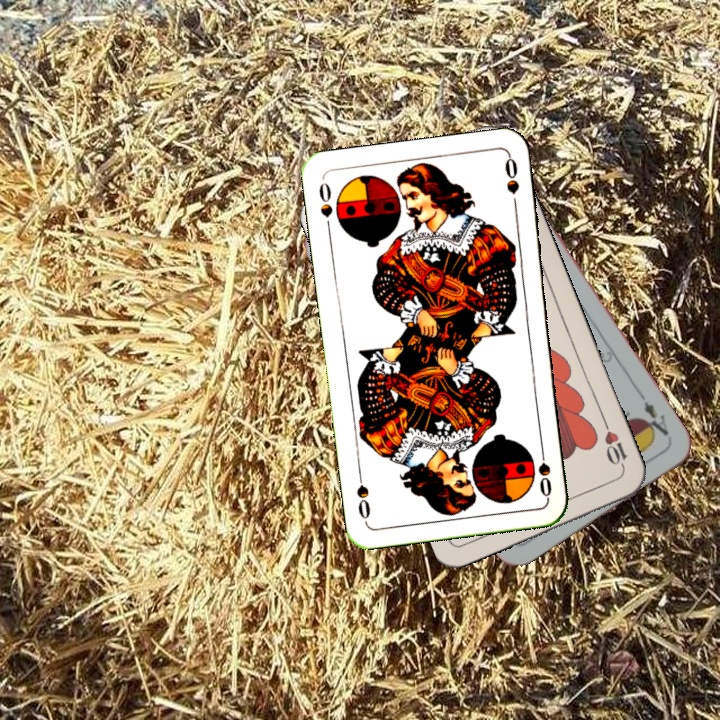EA: (636, 390, 672, 441)
H10: (599, 416, 630, 473)
SO: (534, 441, 555, 500), (315, 178, 335, 235)
